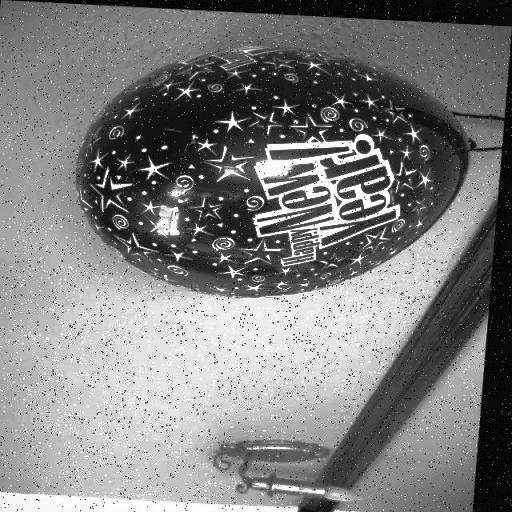balloon: (66, 32, 478, 302)
